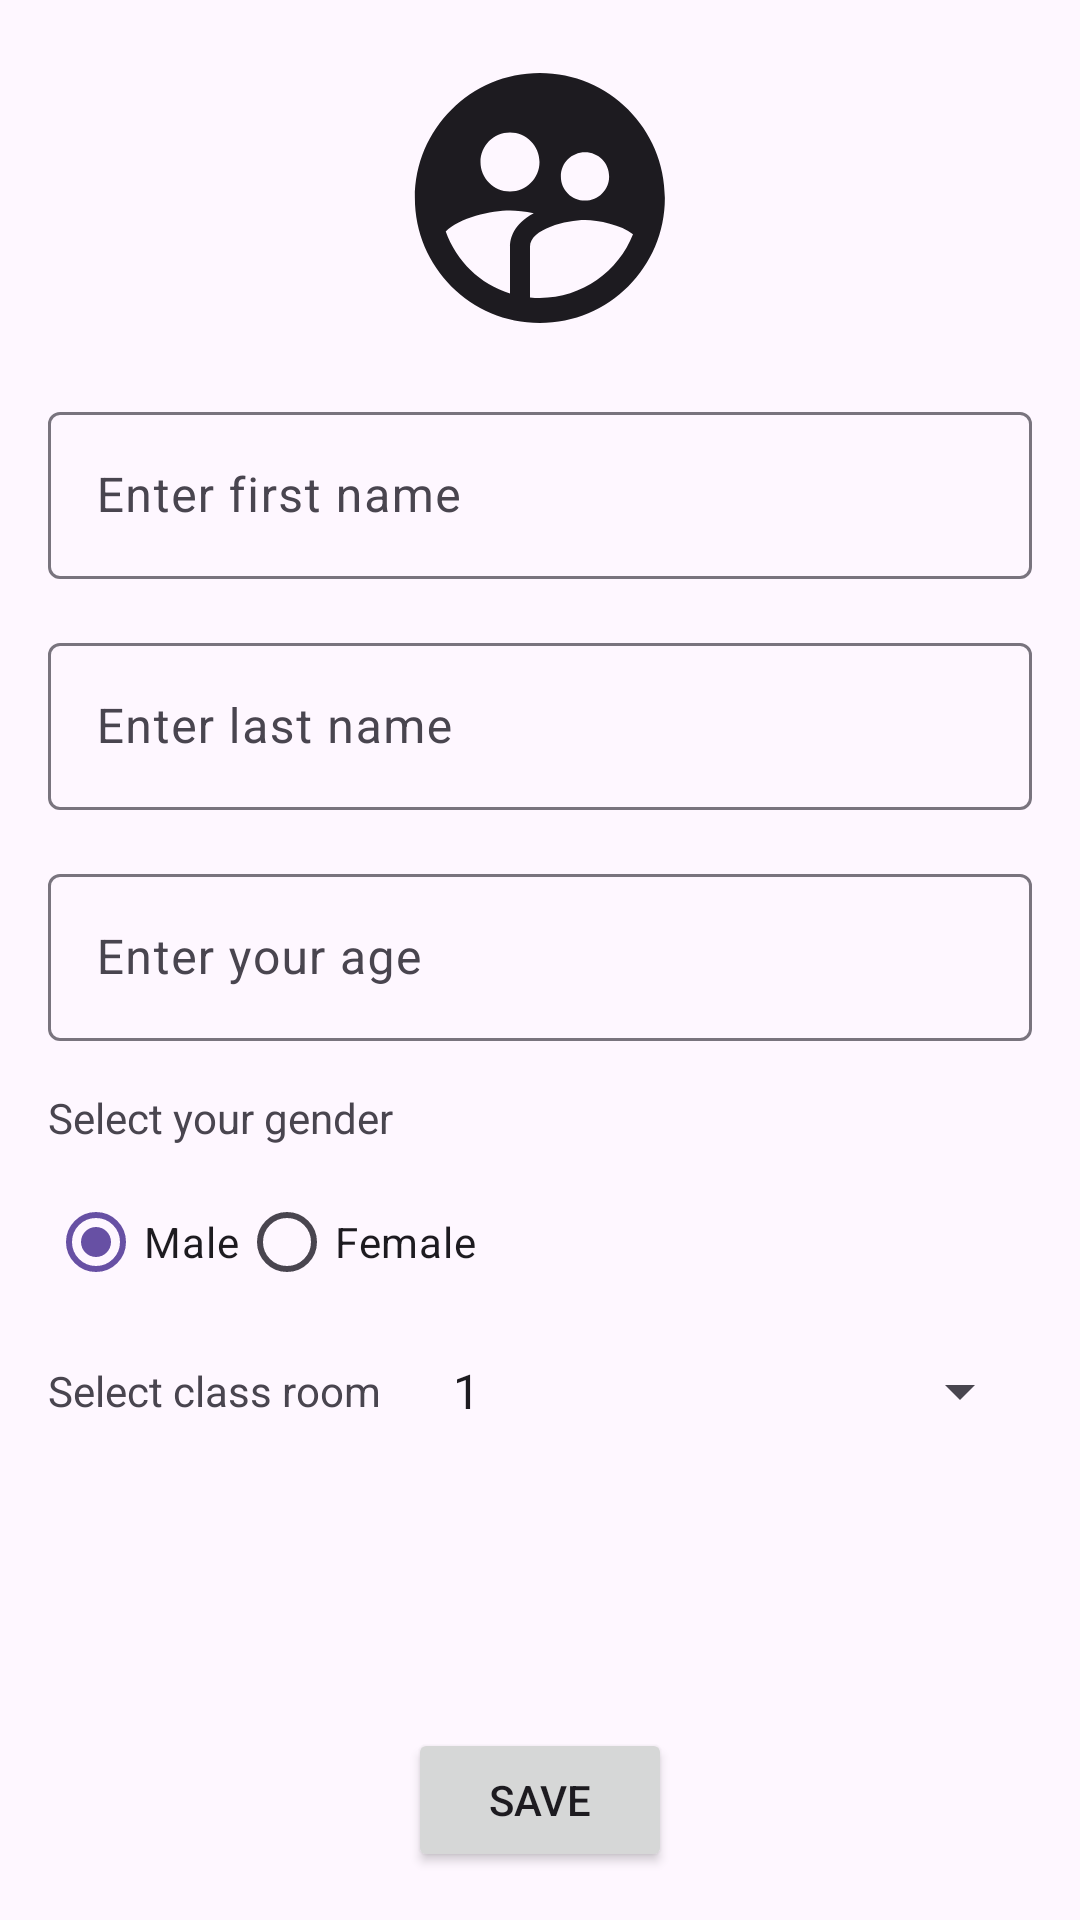

Point at icon controls on the screen. Image size 1080*1920, points as [x,y].
user: [539,198]
